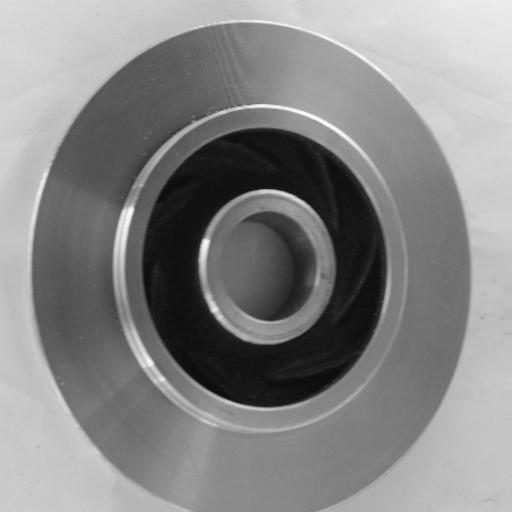polished_casting: (29, 20, 475, 512)
